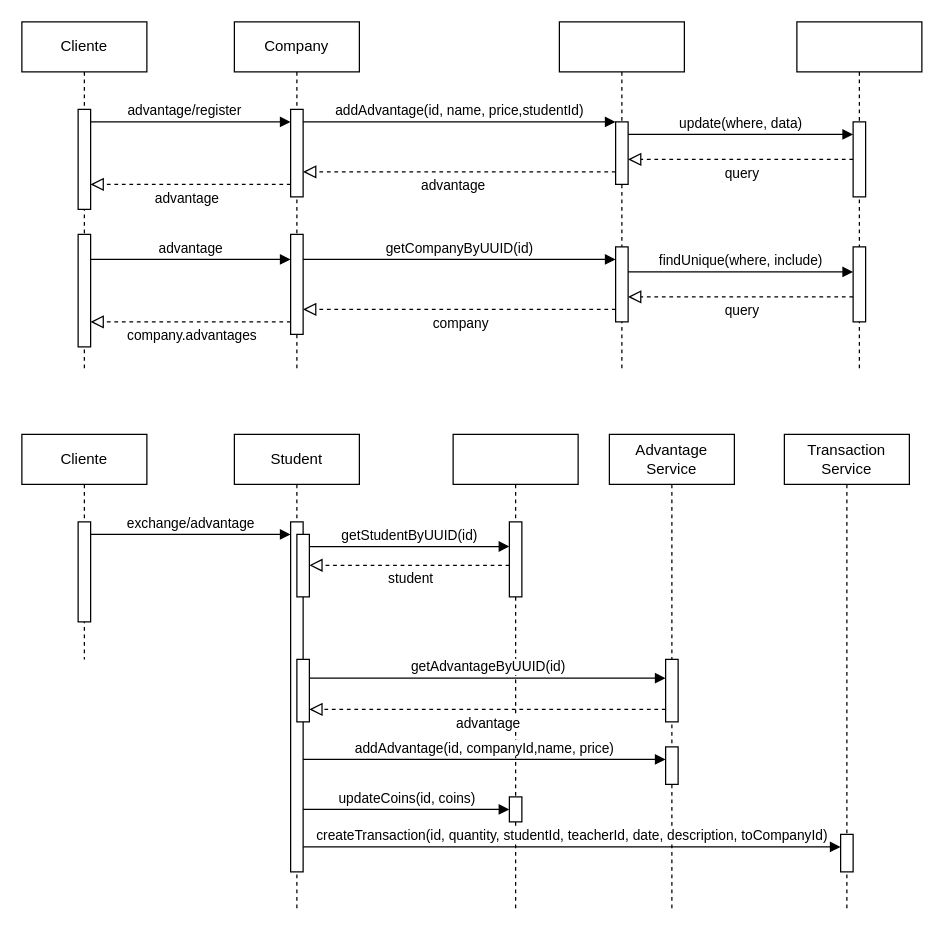
This 944x931 diagram has some shape labels left out. The box of each missing label's shape, as (x1, y1, x2, y2) in pixels:
Company Service: (558, 21, 684, 372)
Database: (796, 21, 922, 372)
Student Service: (452, 433, 578, 909)
